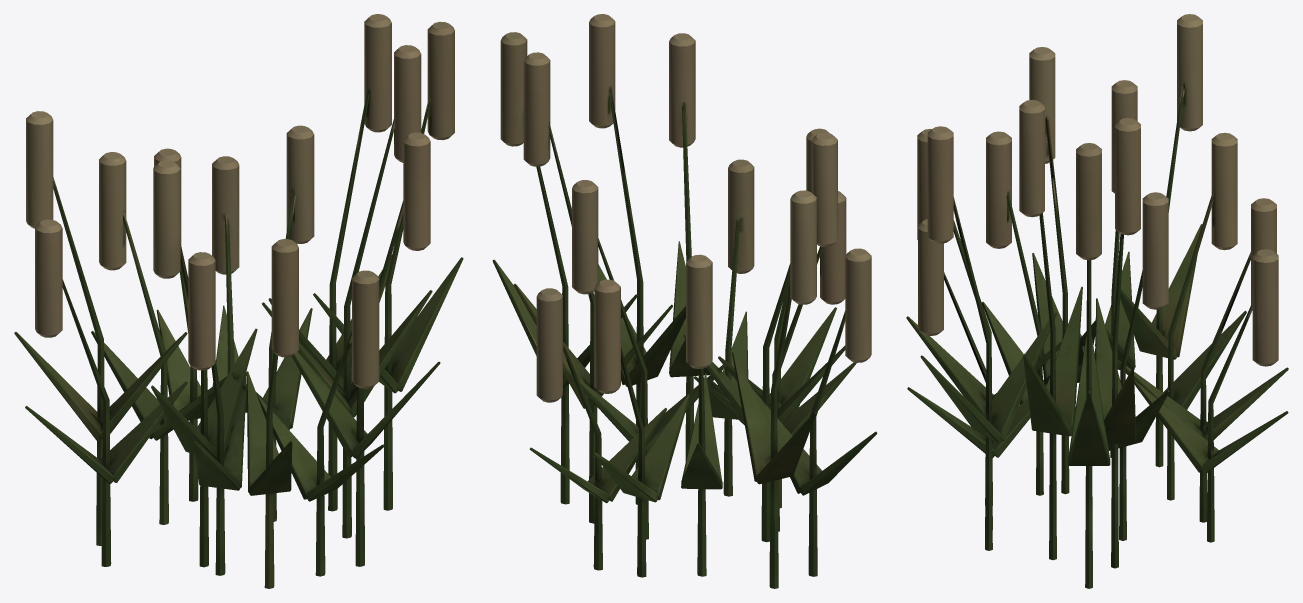
The model's file is reeds.glb.
The picture shows the model from 3 angles, left to right: view 1: azimuth 30°, elevation 25°; view 2: azimuth 150°, elevation 25°; view 3: azimuth 270°, elevation 25°; orthographic projection. The views are drawn at different scales.
Visible parts, largest first — view 1: reeds; view 2: reeds; view 3: reeds.
Boxes of the visible parts, x1,y1,x2,y2 form: reeds: [14, 14, 463, 588]; reeds: [492, 14, 877, 588]; reeds: [906, 14, 1288, 588].
Size of the model in its own units: 0.7879 by 0.8706 by 0.6306.
Materials: 1 (1 with a texture image).
